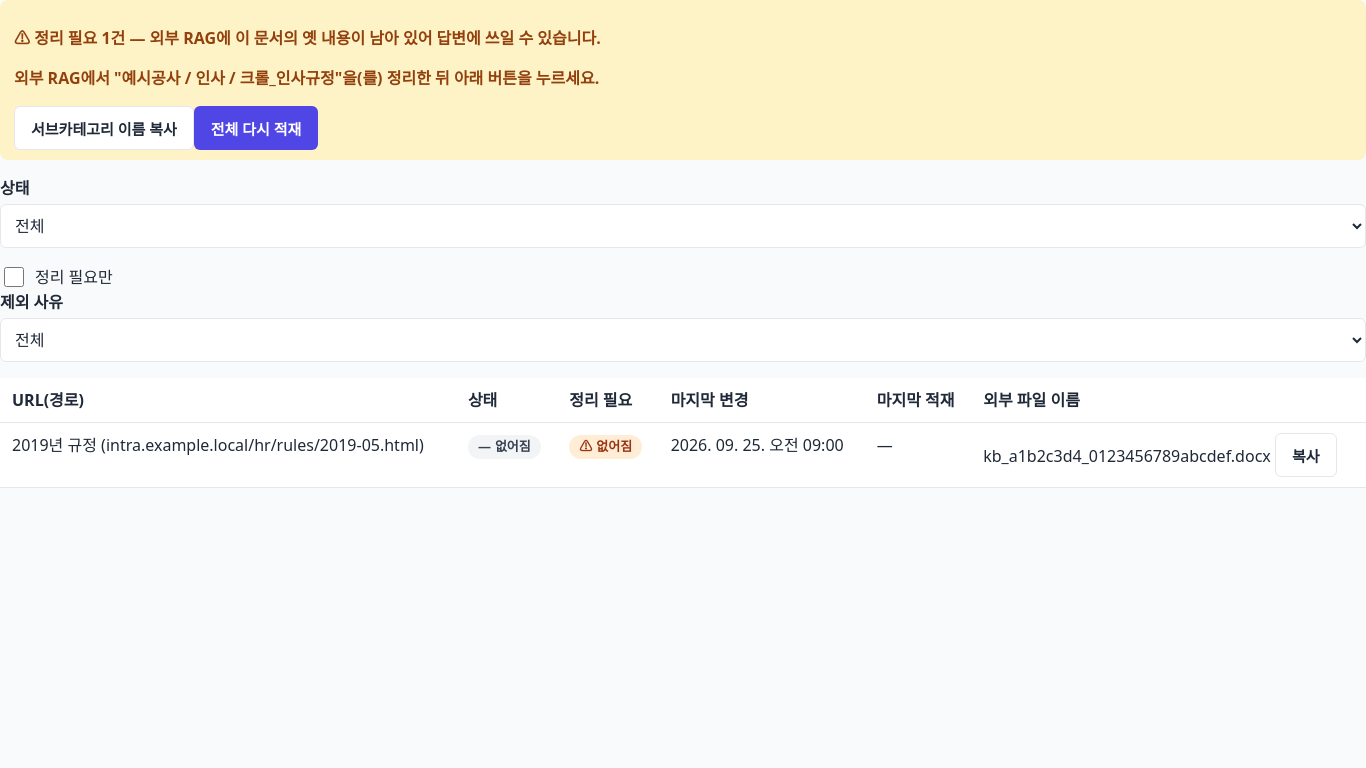
Scenario: KbDocumentListPage › 전체 다시 적재 확인 체크 없이 진행하면 인라인 오류를 보여주고 요청을 보내지 않는다
What coordinates should you click on to do the following:
click the button "전체 다시 적재"
I would click on:
 (256, 128)
Its box is [194,106,318,150].
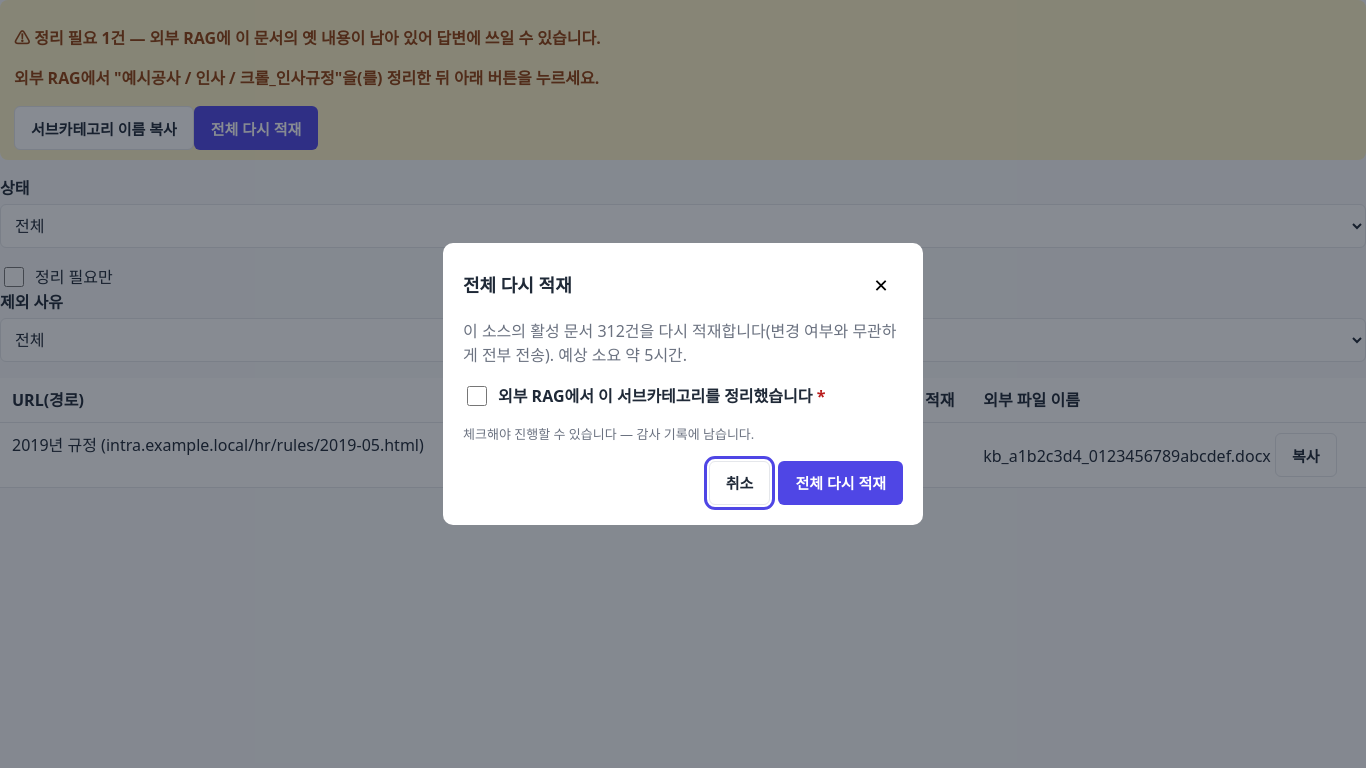
What coordinates should you click on to do the following:
click the button "전체 다시 적재"
I would click on:
 (841, 483)
Its box is [778,461,903,505].
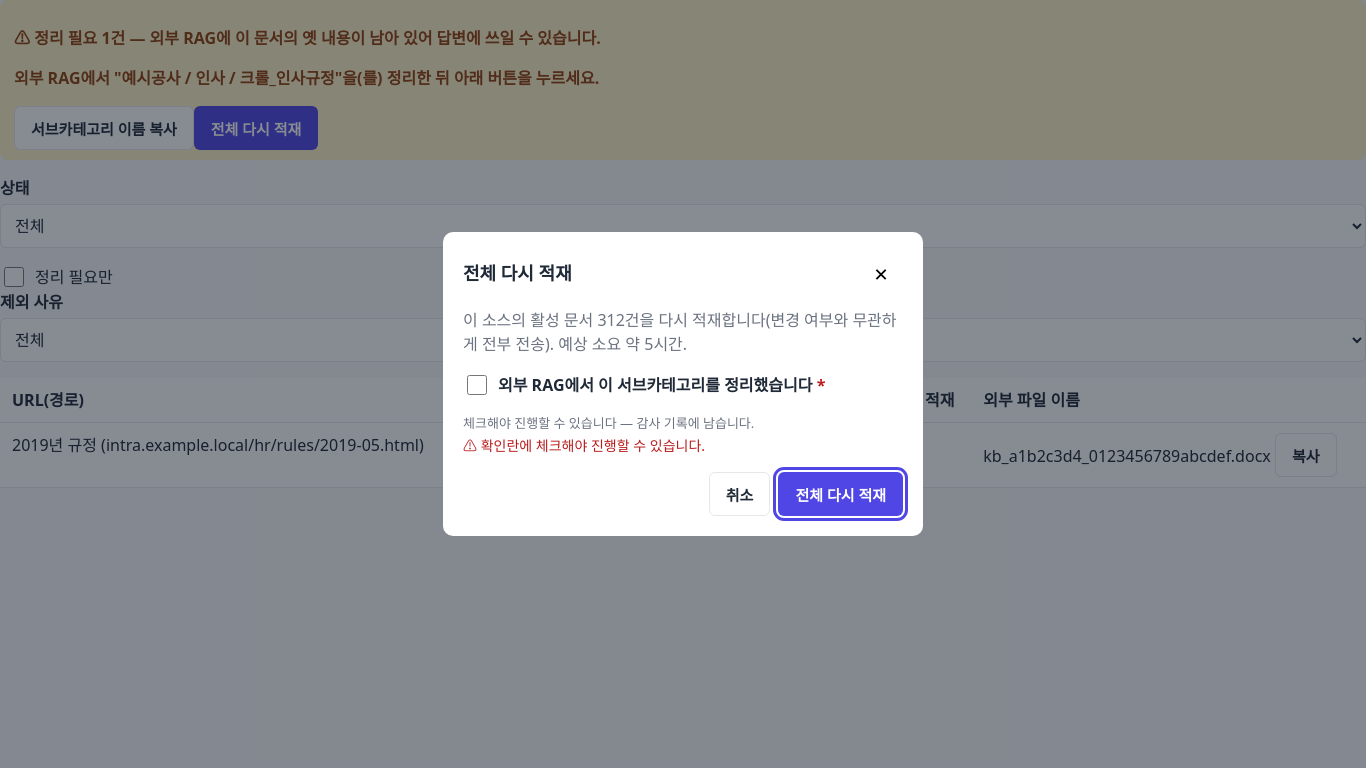
Expected: the text "확인란에 체크해야 진행할 수 있습니다." is shown, [481,436,705,455]
